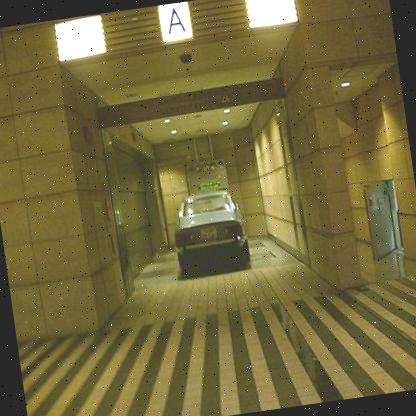car: (162, 180, 258, 286)
